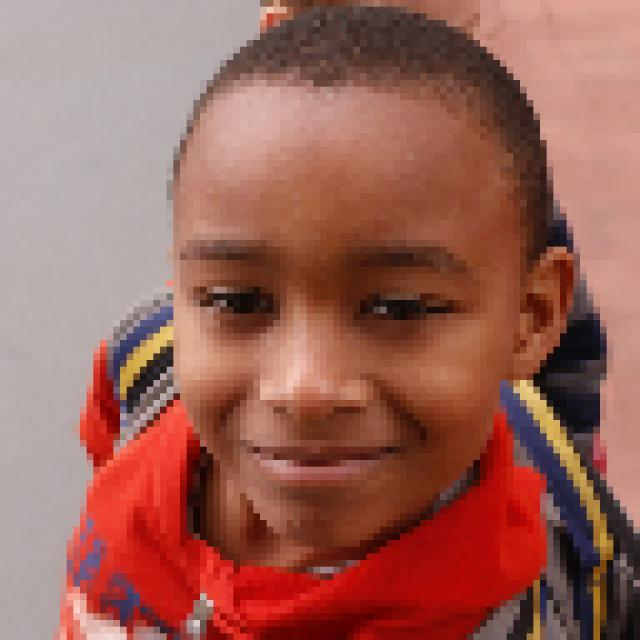happy: (150, 77, 537, 548)
